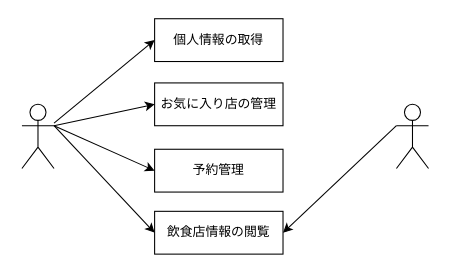
Image size: 449x273. Some labels were removed from this diagram. The shapes that lost their labels are listed below. From the top down, each one's centre as x and y in pixels, then its label:
At (x=37, y=136): "登録者".
At (x=412, y=136): "来訪者".
